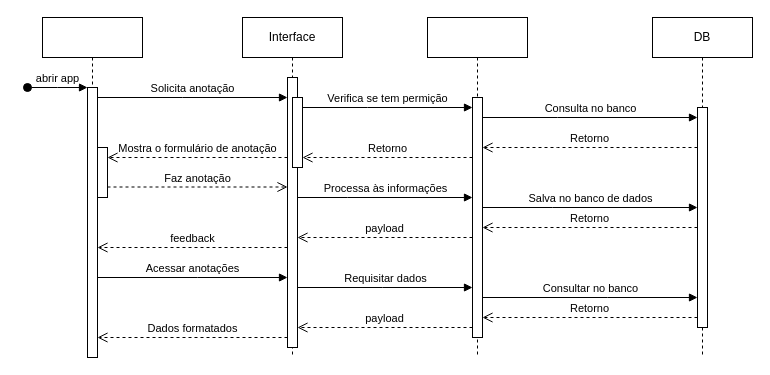
Image size: 770x375. Some labels were removed from this diagram. Here are the shapes that lost their labels. From the top down, the box of each, then its label:
(42, 16, 142, 358): Família
(426, 16, 528, 358): Server
